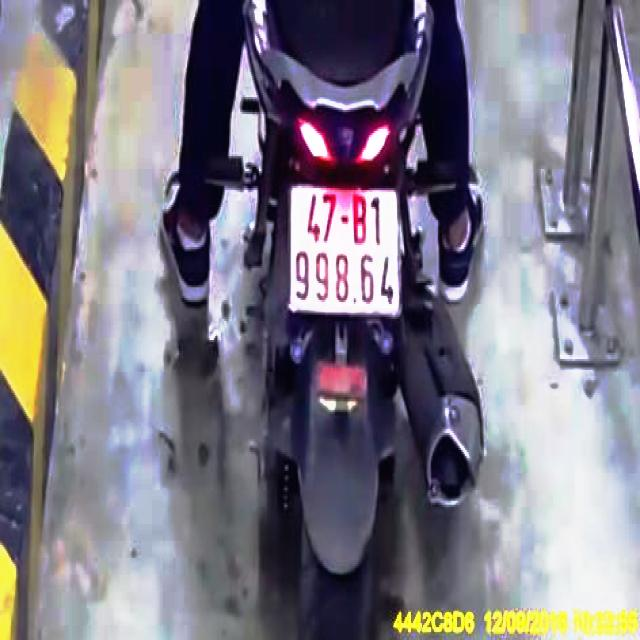license_plate: (293, 185, 401, 313)
